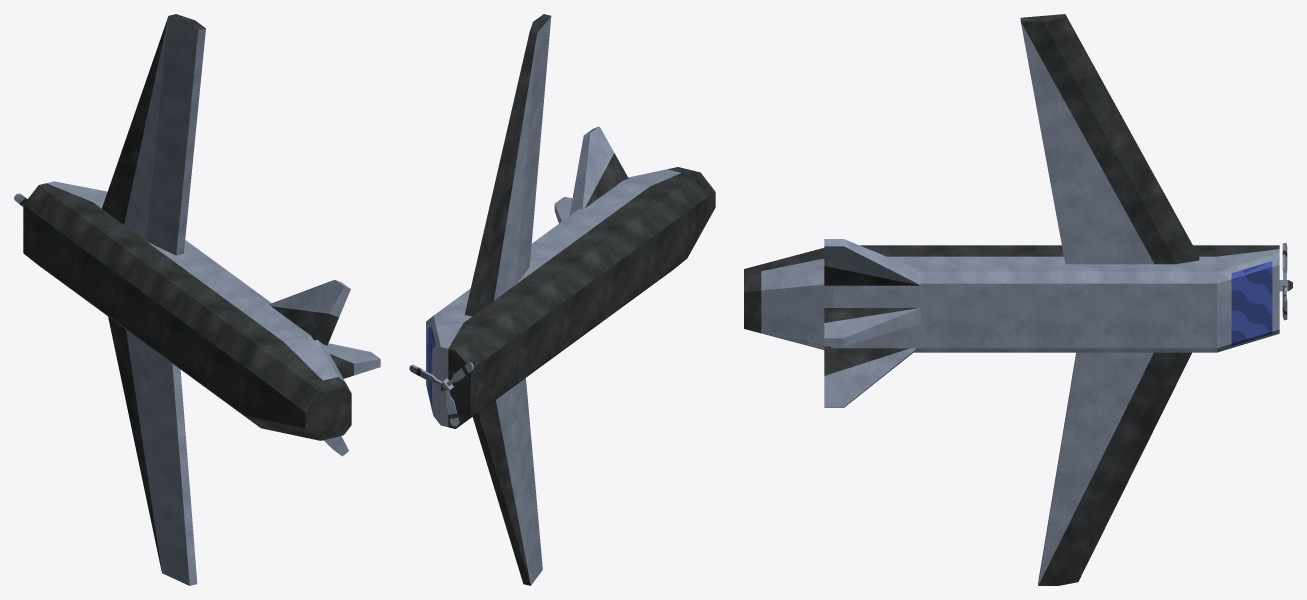
3 renders of one model, left to right at view 1: azimuth 30°, elevation 25°; view 2: azimuth 150°, elevation 25°; view 3: azimuth 270°, elevation 25°, orthographic. The views are drawn at different scales.
Parts seen in each view (by area): view 1: mergedBlocks(Clone); view 2: mergedBlocks(Clone); view 3: mergedBlocks(Clone).
Part boxes in pixels (x1,y1,x2,y2): mergedBlocks(Clone): (14,14,380,585); mergedBlocks(Clone): (409,14,715,585); mergedBlocks(Clone): (744,14,1292,585).
Size of the model in its own units: 1.77 by 6.98 by 6.15.
Materials: 3 (3 with a texture image).
